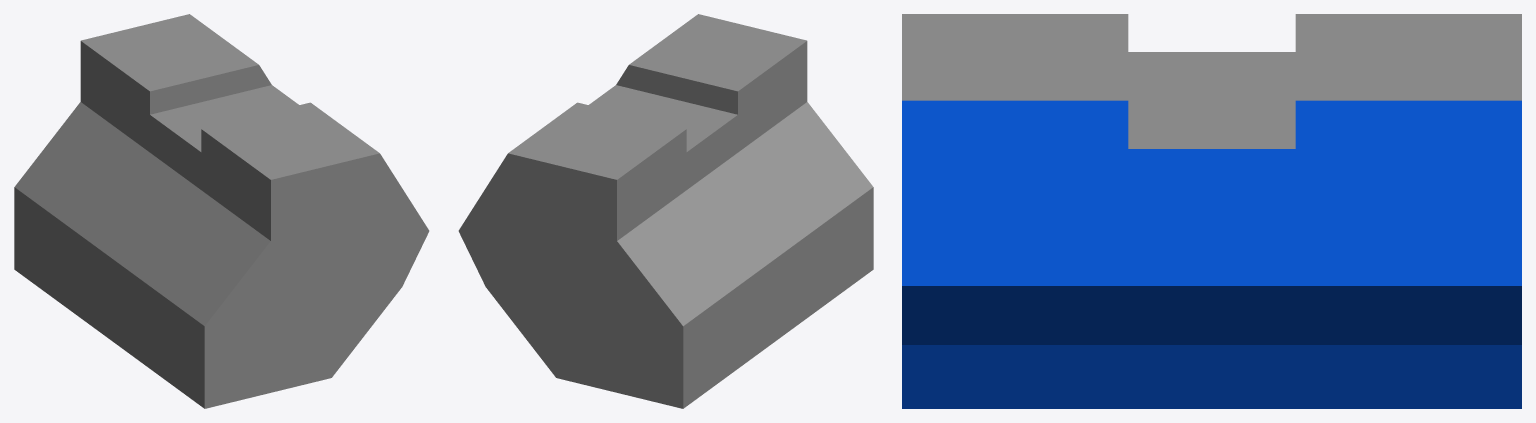
The model's file is chest.dae.
3 renders of one model, left to right at view 1: azimuth 30°, elevation 25°; view 2: azimuth 150°, elevation 25°; view 3: azimuth 270°, elevation 25°, orthographic. The views are drawn at different scales.
Parts seen in each view (by area): view 1: 简化肩基座; view 2: 简化肩基座; view 3: 挡板, 简化肩基座.
Boxes of the visible parts, x1,y1,x2,y2 form: 简化肩基座: (14,14,429,408); 简化肩基座: (458,14,873,408); 挡板: (902,100,1521,408); 简化肩基座: (902,14,1521,148).
Bounding box in the file's own units: 0.1513 × 0.222 × 0.137.
